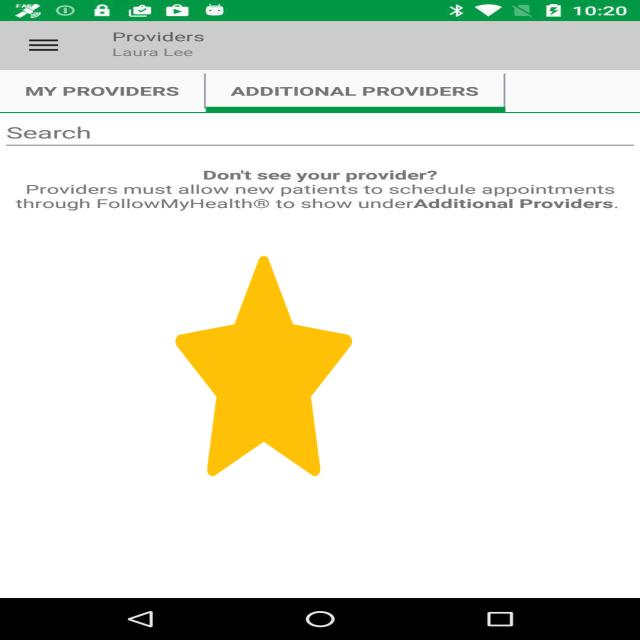forced continuity: (175, 256, 352, 476)
